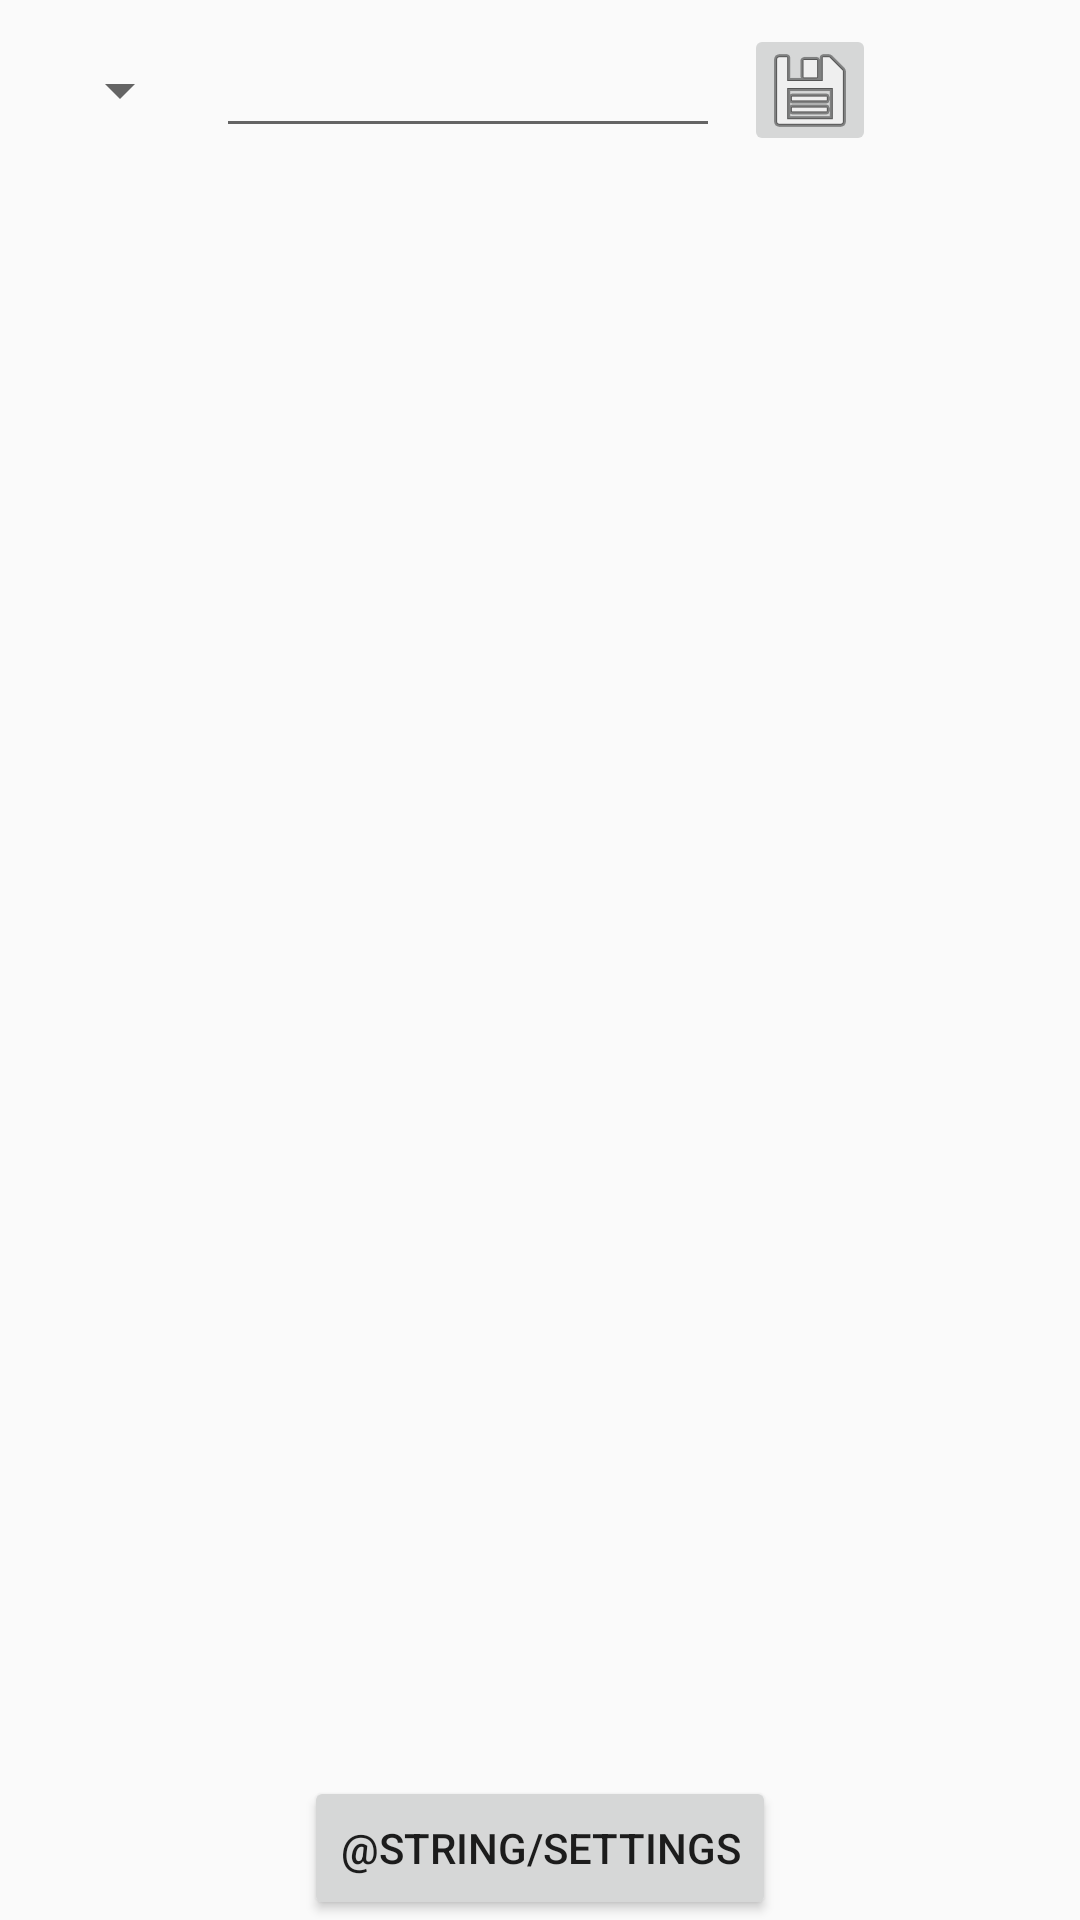

Screen size 1080x1920. Icon name, then its box in pixels as (x1, y1, x2, y2):
save: (756, 42, 864, 138)
